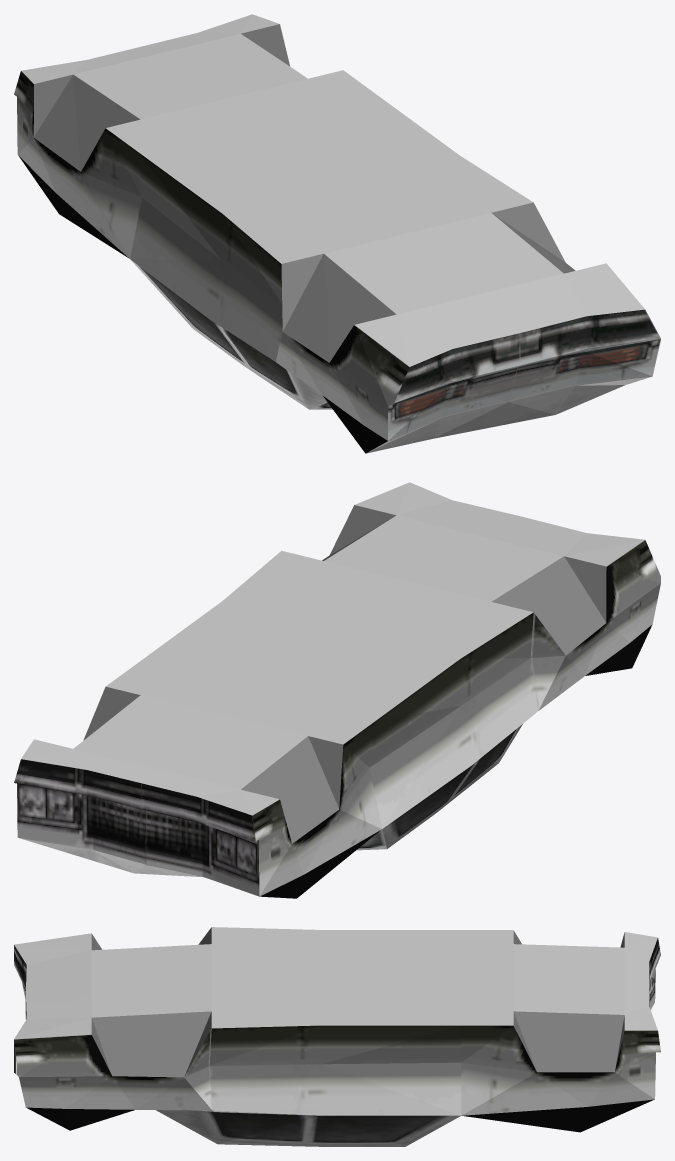
The model's file is CHICAGO_model0_damaged.obj.
3 views of the same model, one above another, from view 1: azimuth 30°, elevation 25°; view 2: azimuth 150°, elevation 25°; view 3: azimuth 270°, elevation 25° (orthographic). The views are drawn at different scales.
Parts seen in each view (by area): view 1: CHICAGO_model0_damaged_set1_id0_ft, CHICAGO_model0_damaged_set58_id13, CHICAGO_model0_damaged_flat, CHICAGO_model0_damaged_set58_id12, CHICAGO_model0_damaged_set58_id0, CHICAGO_model0_damaged_set58_id3, CHICAGO_model0_damaged_set58_id16, CHICAGO_model0_damaged_set58_id20, CHICAGO_model0_damaged_set58_id22; view 2: CHICAGO_model0_damaged_set1_id0_ft, CHICAGO_model0_damaged_set58_id13, CHICAGO_model0_damaged_flat, CHICAGO_model0_damaged_set58_id12, CHICAGO_model0_damaged_set58_id9, CHICAGO_model0_damaged_set58_id6, CHICAGO_model0_damaged_set58_id16, CHICAGO_model0_damaged_set58_id22, CHICAGO_model0_damaged_set58_id17; view 3: CHICAGO_model0_damaged_set1_id0_ft, CHICAGO_model0_damaged_set58_id13, CHICAGO_model0_damaged_set58_id12, CHICAGO_model0_damaged_flat, CHICAGO_model0_damaged_set58_id16, CHICAGO_model0_damaged_set58_id22, CHICAGO_model0_damaged_set58_id6, CHICAGO_model0_damaged_set58_id3.
Part boxes in pixels (x1,y1,x2,y2): CHICAGO_model0_damaged_set1_id0_ft: [21, 14, 644, 366]; CHICAGO_model0_damaged_set58_id13: [130, 151, 282, 361]; CHICAGO_model0_damaged_flat: [33, 24, 575, 362]; CHICAGO_model0_damaged_set58_id12: [14, 71, 387, 453]; CHICAGO_model0_damaged_set58_id0: [508, 309, 660, 401]; CHICAGO_model0_damaged_set58_id3: [388, 333, 520, 440]; CHICAGO_model0_damaged_set58_id16: [276, 325, 409, 440]; CHICAGO_model0_damaged_set58_id20: [366, 376, 651, 453]; CHICAGO_model0_damaged_set58_id22: [130, 259, 326, 409]; CHICAGO_model0_damaged_set1_id0_ft: [21, 482, 644, 815]; CHICAGO_model0_damaged_set58_id13: [369, 612, 537, 828]; CHICAGO_model0_damaged_flat: [83, 505, 606, 843]; CHICAGO_model0_damaged_set58_id12: [252, 624, 652, 898]; CHICAGO_model0_damaged_set58_id9: [14, 759, 146, 864]; CHICAGO_model0_damaged_set58_id6: [142, 783, 259, 896]; CHICAGO_model0_damaged_set58_id16: [530, 540, 660, 710]; CHICAGO_model0_damaged_set58_id22: [382, 724, 522, 848]; CHICAGO_model0_damaged_set58_id17: [19, 838, 203, 877]; CHICAGO_model0_damaged_set1_id0_ft: [14, 927, 657, 1039]; CHICAGO_model0_damaged_set58_id13: [209, 1025, 461, 1115]; CHICAGO_model0_damaged_set58_id12: [26, 1025, 660, 1132]; CHICAGO_model0_damaged_flat: [91, 927, 624, 1077]; CHICAGO_model0_damaged_set58_id16: [14, 1029, 212, 1110]; CHICAGO_model0_damaged_set58_id22: [156, 1110, 460, 1146]; CHICAGO_model0_damaged_set58_id6: [649, 938, 660, 1009]; CHICAGO_model0_damaged_set58_id3: [14, 945, 26, 999].
Size of the model in its own units: 274 by 152 by 658.
Materials: 13 (11 with a texture image).
